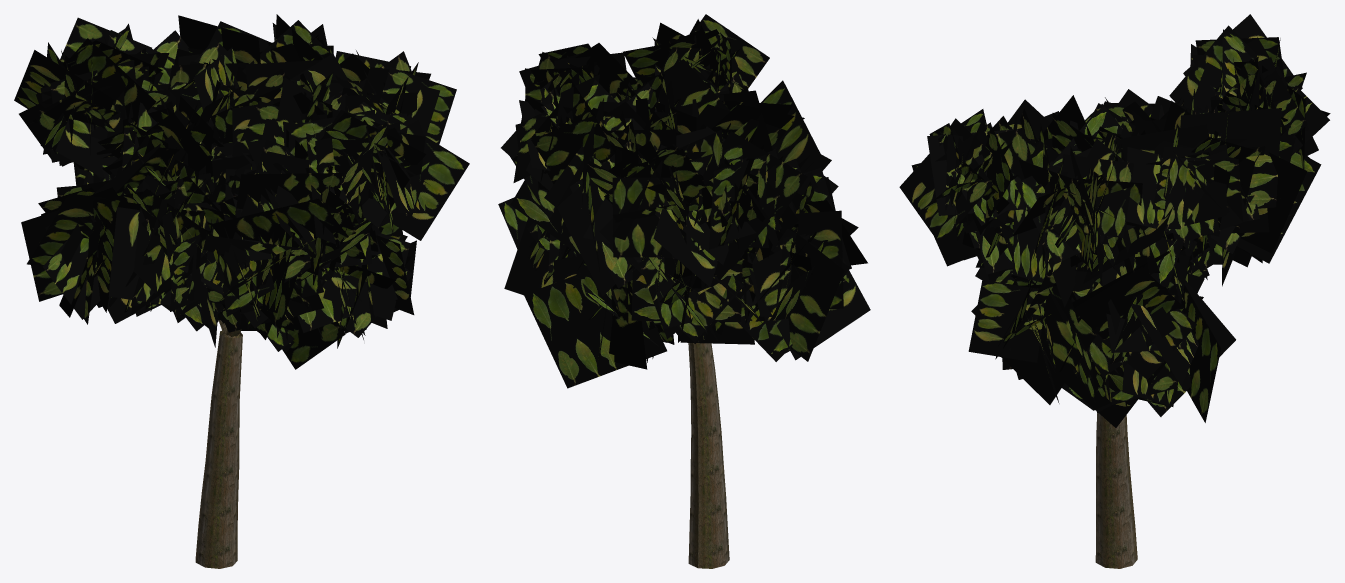
The picture shows the model from 3 angles, left to right: view 1: azimuth 30°, elevation 25°; view 2: azimuth 150°, elevation 25°; view 3: azimuth 270°, elevation 25°; orthographic projection. The views are drawn at different scales.
Visible parts, largest first — view 1: plane; view 2: plane; view 3: plane.
Boxes of the visible parts, x1,y1,x2,y2 form: plane: [14, 14, 469, 568]; plane: [498, 14, 870, 568]; plane: [899, 14, 1330, 568].
Bounding box in the file's own units: 11.01 × 14 × 10.96.
2 materials, 2 textured.
